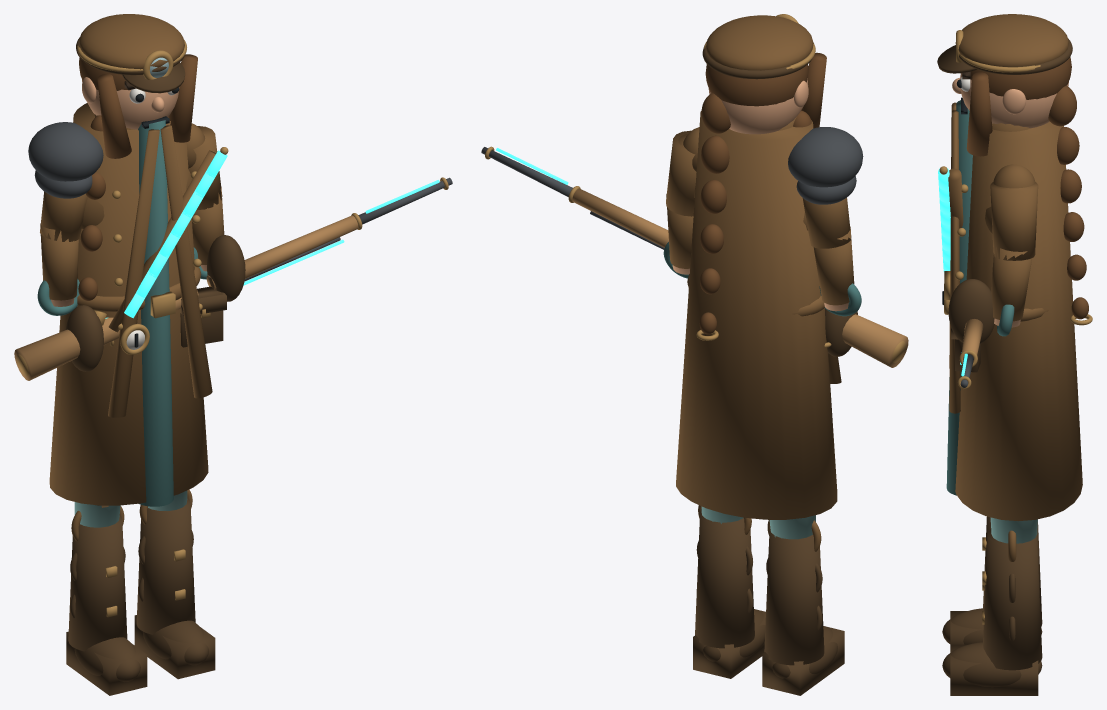
File: 3D模型 char_musketeer.glb
3 views of the same model, side by side, from view 1: azimuth 30°, elevation 25°; view 2: azimuth 150°, elevation 25°; view 3: azimuth 270°, elevation 25° (orthographic).
Visible parts, largest first — view 1: char_musketeer_coat, char_musketeer_lining, char_musketeer_boot_L, char_musketeer_boot_R, char_musketeer_capcrown, char_musketeer_lapel1, char_musketeer_lapel0, char_musketeer_pauldron, char_musketeer_stock, char_musketeer_cslv2_L, char_musketeer_forestock, char_musketeer_hand_R (+18 smaller); view 2: char_musketeer_coat, char_musketeer_boot_L, char_musketeer_boot_R, char_musketeer_capcrown, char_musketeer_pauldron, char_musketeer_hair, char_musketeer_cslv2_L, char_musketeer_stock, char_musketeer_foot_L, char_musketeer_head, char_musketeer_cslv_L, char_musketeer_cslv_R (+14 smaller); view 3: char_musketeer_coat, char_musketeer_boot_R, char_musketeer_capcrown, char_musketeer_cslv_R, char_musketeer_lining, char_musketeer_cslv2_R, char_musketeer_hand_R, char_musketeer_hair, char_musketeer_foot_R, char_musketeer_lapel1, char_musketeer_bfoot_R, char_musketeer_lock1 (+21 smaller).
Part boxes in pixels (left/top/right/bottom): char_musketeer_coat: left=49, top=103, right=208, bottom=505; char_musketeer_lining: left=138, top=120, right=173, bottom=506; char_musketeer_boot_L: left=68, top=515, right=127, bottom=651; char_musketeer_boot_R: left=136, top=498, right=195, bottom=634; char_musketeer_capcrown: left=79, top=14, right=184, bottom=69; char_musketeer_lapel1: left=160, top=125, right=212, bottom=398; char_musketeer_lapel0: left=108, top=129, right=159, bottom=417; char_musketeer_pauldron: left=28, top=122, right=103, bottom=181; char_musketeer_stock: left=14, top=290, right=198, bottom=380; char_musketeer_cslv2_L: left=40, top=224, right=78, bottom=300; char_musketeer_forestock: left=206, top=215, right=358, bottom=290; char_musketeer_hand_R: left=207, top=235, right=245, bottom=301; char_musketeer_coat: left=676, top=111, right=837, bottom=519; char_musketeer_boot_L: left=764, top=527, right=824, bottom=665; char_musketeer_boot_R: left=695, top=509, right=754, bottom=648; char_musketeer_capcrown: left=705, top=15, right=813, bottom=70; char_musketeer_pauldron: left=788, top=127, right=863, bottom=187; char_musketeer_hair: left=705, top=64, right=808, bottom=106; char_musketeer_cslv2_L: left=813, top=226, right=854, bottom=305; char_musketeer_stock: left=842, top=314, right=908, bottom=367; char_musketeer_foot_L: left=762, top=626, right=844, bottom=695; char_musketeer_head: left=708, top=78, right=808, bottom=134; char_musketeer_cslv_L: left=802, top=197, right=851, bottom=248; char_musketeer_cslv_R: left=666, top=130, right=696, bottom=216; char_musketeer_coat: left=955, top=121, right=1082, bottom=521; char_musketeer_boot_R: left=983, top=529, right=1042, bottom=670; char_musketeer_capcrown: left=955, top=14, right=1068, bottom=66; char_musketeer_cslv_R: left=990, top=182, right=1038, bottom=260; char_musketeer_lining: left=946, top=100, right=972, bottom=495; char_musketeer_cslv2_R: left=991, top=247, right=1032, bottom=321; char_musketeer_hand_R: left=948, top=279, right=994, bottom=343; char_musketeer_hair: left=970, top=57, right=1071, bottom=99; char_musketeer_foot_R: left=950, top=644, right=1038, bottom=695; char_musketeer_lapel1: left=949, top=110, right=960, bottom=413; char_musketeer_bfoot_R: left=942, top=642, right=1042, bottom=687; char_musketeer_lock1: left=966, top=72, right=992, bottom=156.
Bounding box in the file's own units: 1.24 × 1.78 × 0.3887.
